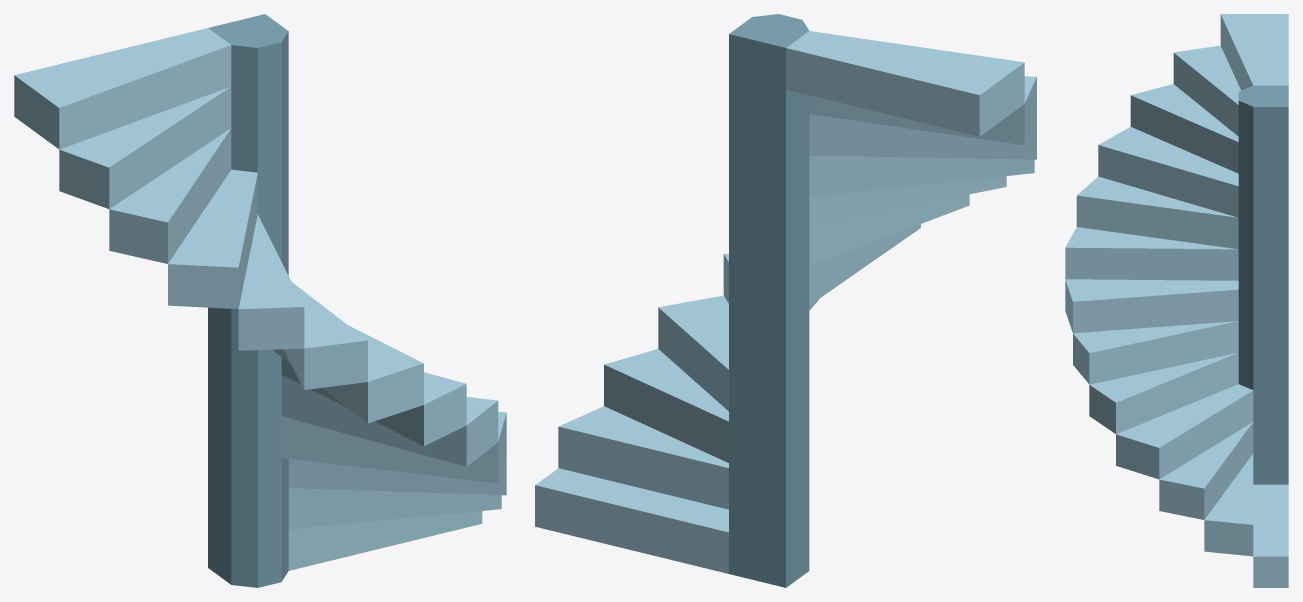
File: stairsStoneRound.dae
3 renders of one model, left to right at view 1: azimuth 30°, elevation 25°; view 2: azimuth 150°, elevation 25°; view 3: azimuth 270°, elevation 25°, orthographic. The views are drawn at different scales.
Parts seen in each view (by area): view 1: stairsStoneRound; view 2: stairsStoneRound; view 3: stairsStoneRound.
Part boxes in pixels (<box>): stairsStoneRound: <box>14,14,506,587</box>; stairsStoneRound: <box>535,14,1036,587</box>; stairsStoneRound: <box>1065,14,1288,587</box>.
Bounding box in the file's own units: 0.8618 × 1 × 0.4949.
